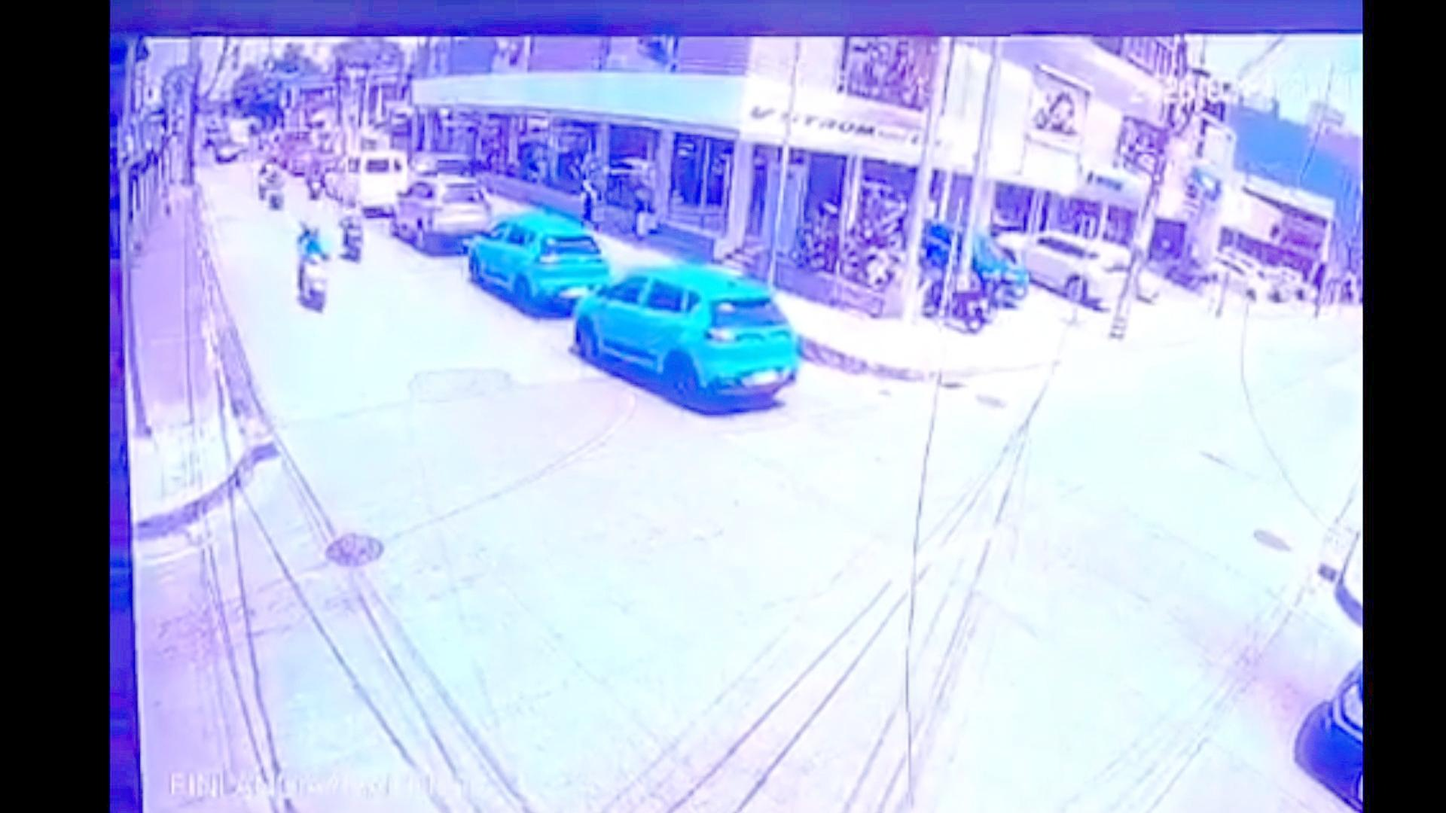Car: (571, 261, 799, 412), (466, 212, 612, 315), (1004, 229, 1149, 307), (915, 221, 1028, 314), (393, 173, 497, 251), (332, 143, 417, 211), (1206, 252, 1276, 303)
Motor: (925, 260, 992, 333), (289, 217, 337, 313), (336, 204, 369, 260), (258, 165, 285, 210), (1173, 261, 1205, 293), (305, 168, 325, 200)
